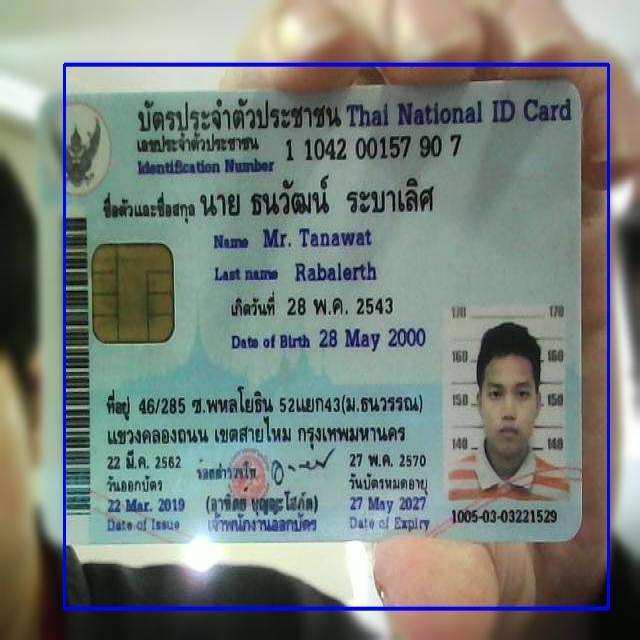Address_th: (102, 376, 430, 456)
Date_of_Birth: (315, 323, 428, 354)
Date_of_Expiry: (348, 493, 430, 514)
Date_of_Issue: (102, 497, 188, 516)
First_Name: (257, 220, 375, 252)
ID_Number: (282, 130, 465, 166)
Image: (446, 308, 566, 502)
Last_Name: (291, 257, 382, 288)
Thai_Name: (194, 170, 440, 226)
